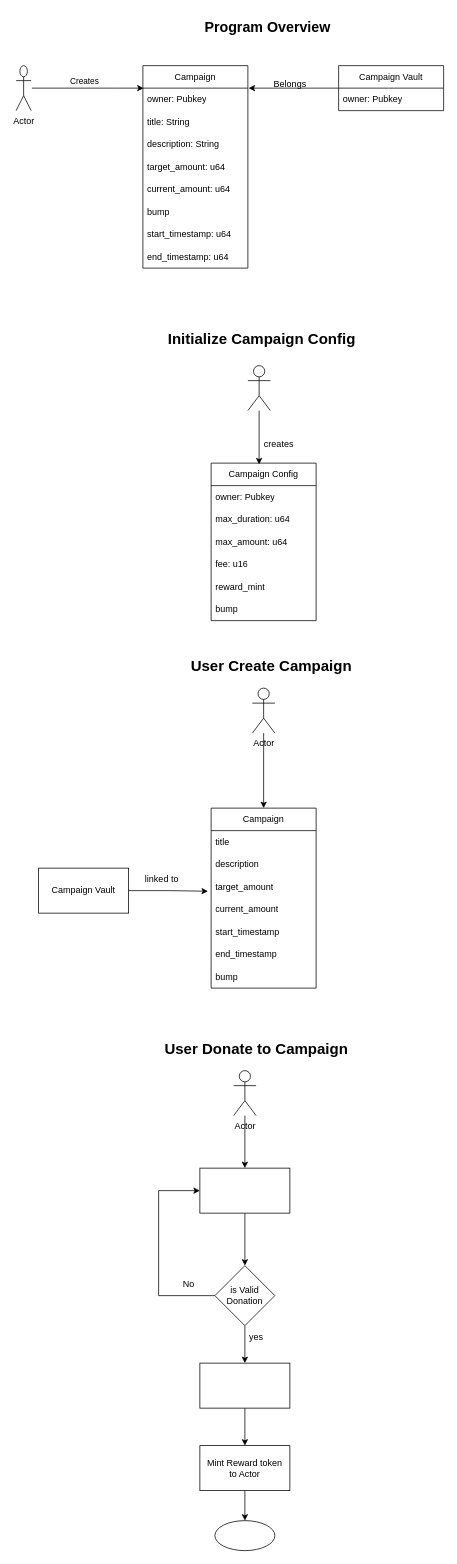
This 457x1564 diagram has some shape labels left out. Each missing label, with the centre of its shape:
"Admin" goes at [258,388].
"End" goes at [244,1535].
"initiate donation to Campaign" goes at [244,1190].
"Update Campaign Donation Data" goes at [244,1385].
